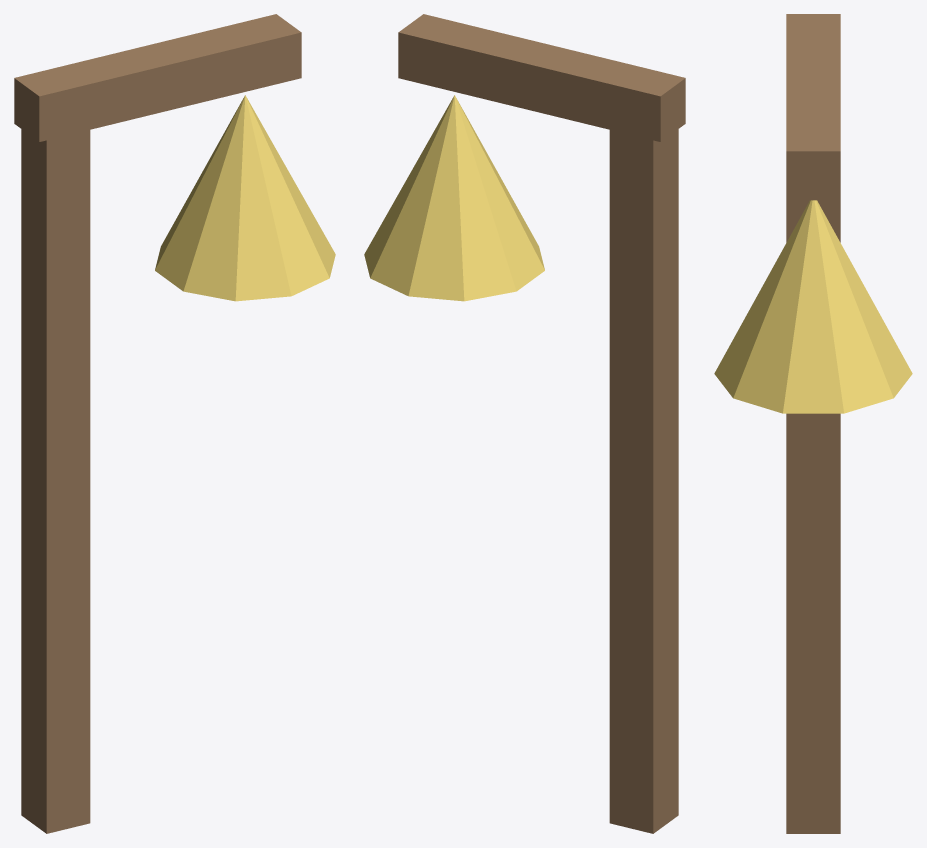
Rendered from Bell.fbx.
The picture shows the model from 3 angles, left to right: view 1: azimuth 30°, elevation 25°; view 2: azimuth 150°, elevation 25°; view 3: azimuth 270°, elevation 25°; orthographic projection. The views are drawn at different scales.
Visible parts, largest first — view 1: Body; view 2: Body; view 3: Body.
Part boxes in pixels (<box>): Body: <box>14,14,335,833</box>; Body: <box>364,14,685,833</box>; Body: <box>714,14,912,833</box>.
Bounding box in the file's own units: 1.01 × 2.42 × 0.55.
